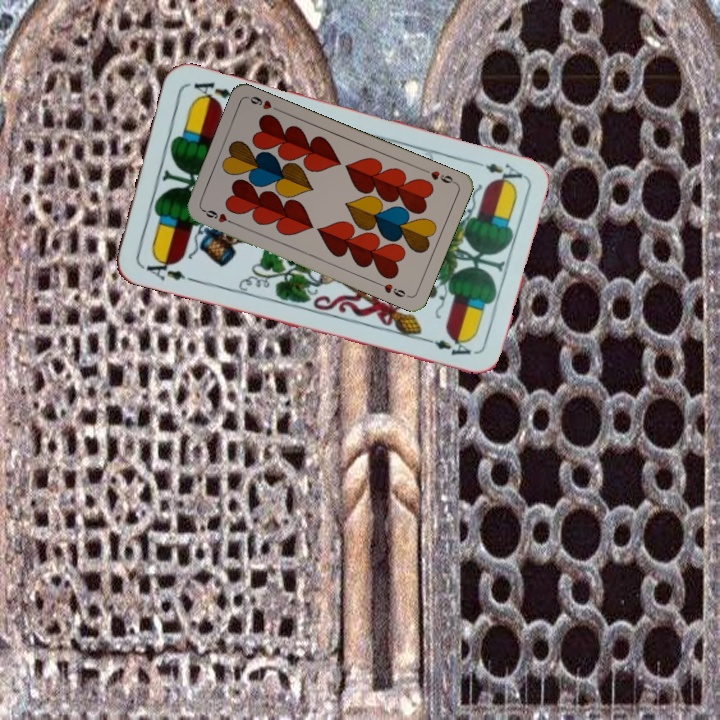EA: (138, 252, 196, 284), (467, 156, 525, 186)
H9: (199, 205, 237, 227), (419, 165, 458, 186)
